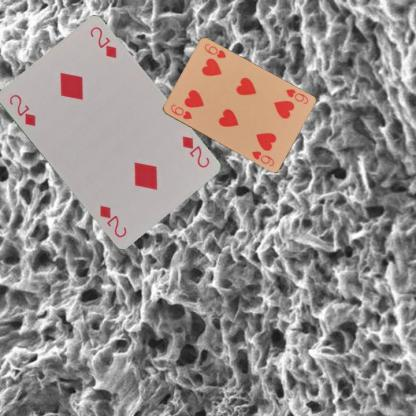2d: (179, 133, 211, 169), (6, 91, 37, 128)
6h: (283, 86, 309, 106), (168, 102, 193, 120)
